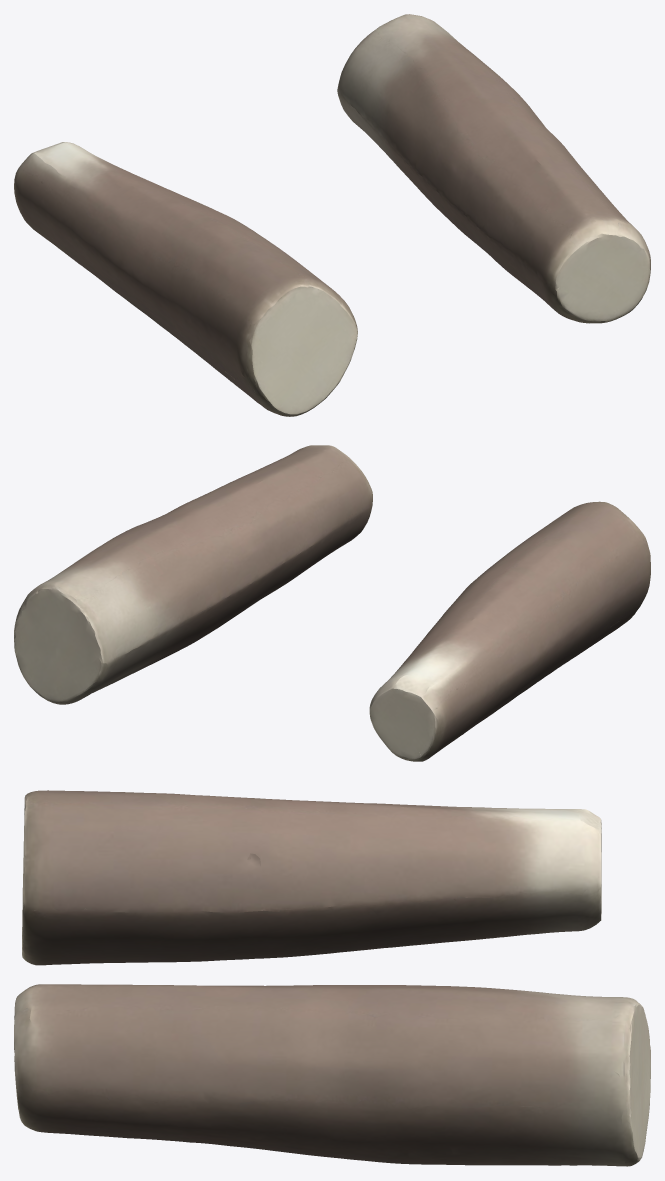
File: firewood_logs.glb
3 views of the same model, one above another, from view 1: azimuth 30°, elevation 25°; view 2: azimuth 150°, elevation 25°; view 3: azimuth 270°, elevation 25° (orthographic). The views are drawn at different scales.
Visible parts, largest first — view 1: firewood_logs; view 2: firewood_logs; view 3: firewood_logs.
Boxes of the visible parts, x1,y1,x2,y2 form: firewood_logs: (14,14,650,416); firewood_logs: (14,445,650,761); firewood_logs: (14,790,650,1166).
Bounding box in the file's own units: 1.92 × 0.5532 × 1.89.
Materials: 1 (1 with a texture image).
